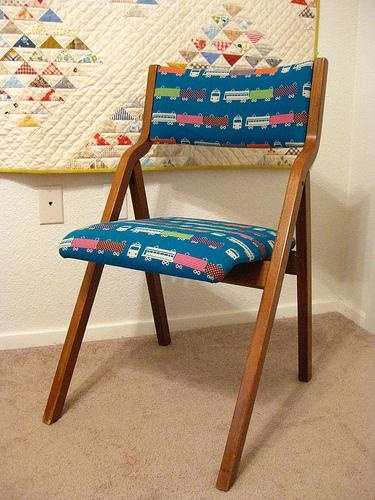obstacle: (216, 58, 327, 490), (101, 65, 178, 222), (43, 262, 103, 423)
